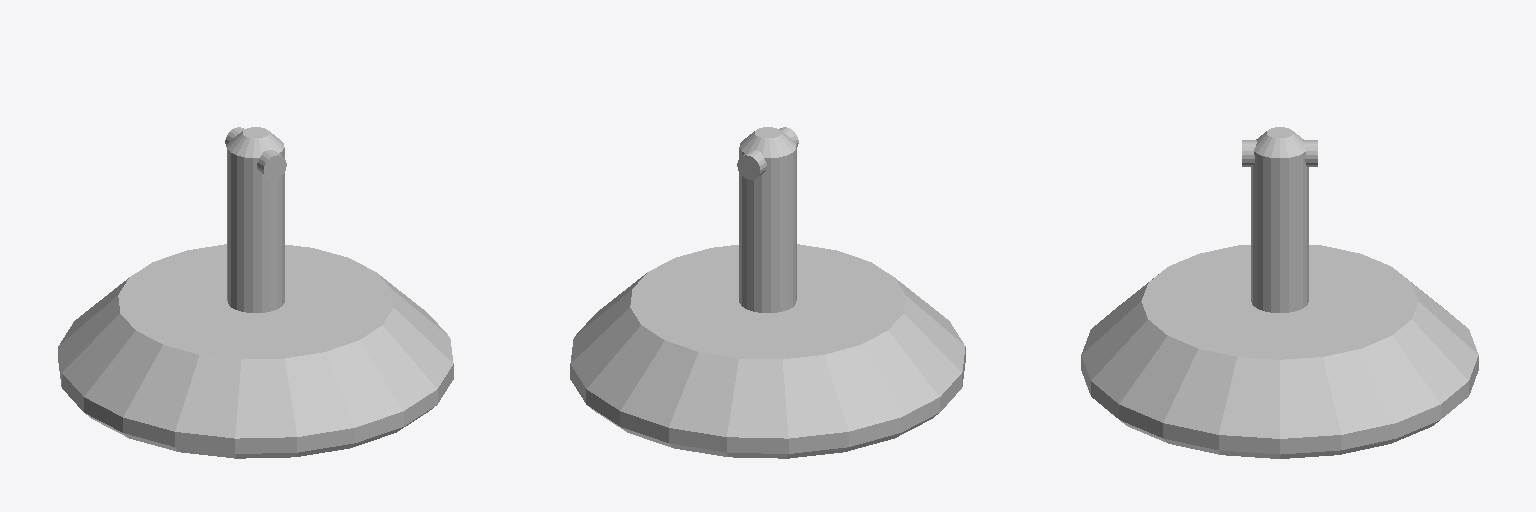
Rendered from WaterPumpBellowsTop.obj.
The picture shows the model from 3 angles: view 1: azimuth 30°, elevation 25°; view 2: azimuth 150°, elevation 25°; view 3: azimuth 270°, elevation 25°; orthographic projection.
Parts seen in each view (by area): view 1: WaterPumpBellowsTop WaterPumpPARTS_TOENGINE; view 2: WaterPumpBellowsTop WaterPumpPARTS_TOENGINE; view 3: WaterPumpBellowsTop WaterPumpPARTS_TOENGINE.
Boxes of the visible parts, box(x1,y1,x2,y2) form: WaterPumpBellowsTop WaterPumpPARTS_TOENGINE: box(58, 127, 453, 458); WaterPumpBellowsTop WaterPumpPARTS_TOENGINE: box(570, 127, 965, 458); WaterPumpBellowsTop WaterPumpPARTS_TOENGINE: box(1081, 127, 1478, 458).
Bounding box in the file's own units: 2.29 × 1.56 × 2.29.